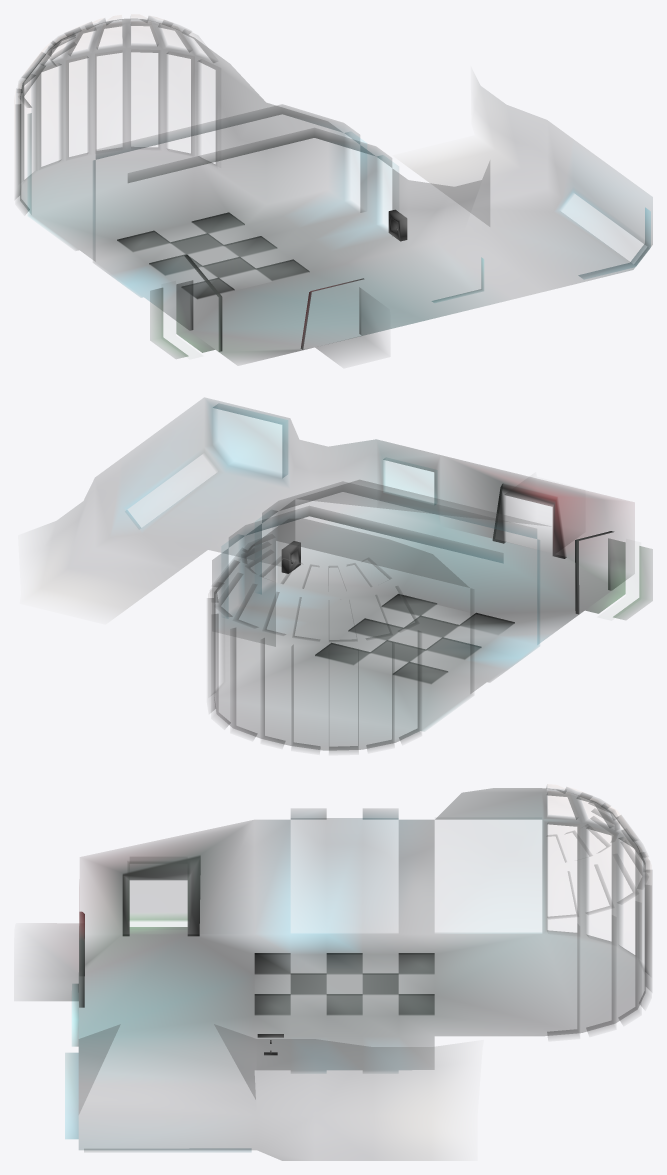
The model's file is inside_mainhub.glb.
3 views of the same model, one above another, from view 1: azimuth 30°, elevation 25°; view 2: azimuth 150°, elevation 25°; view 3: azimuth 270°, elevation 25° (orthographic). The views are drawn at different scales.
Parts seen in each view (by area): view 1: Plane.005; view 2: Plane.005; view 3: Plane.005.
Part boxes in pixels (x1,y1,x2,y2): Plane.005: (15,16,652,364); Plane.005: (42,398,652,752); Plane.005: (30,787,651,1160).
Size of the model in its own units: 28.39 by 9.52 by 30.83.
